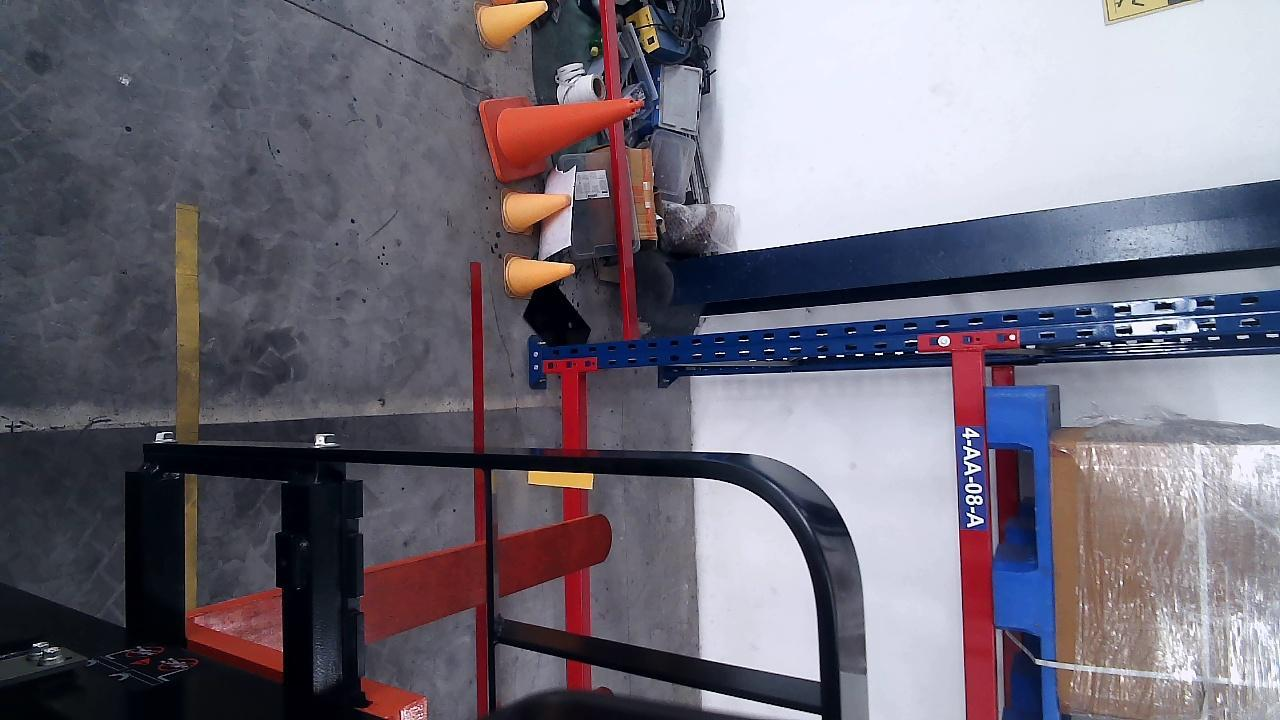h_rack: (954, 345, 998, 719)
orange_strip: (528, 468, 593, 488)
red_line: (470, 261, 488, 447)
small_pallet: (987, 388, 1062, 720)
yellow_line: (173, 205, 202, 443)
